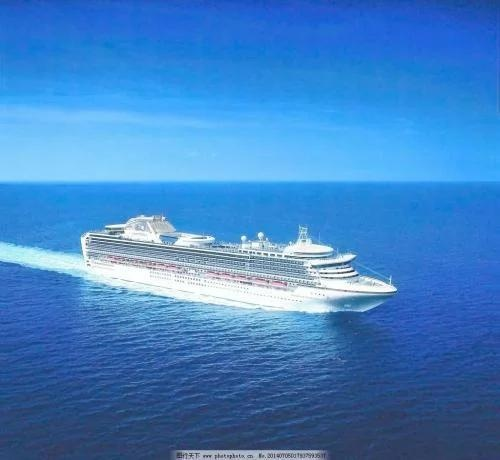youlun: (74, 211, 398, 315)
